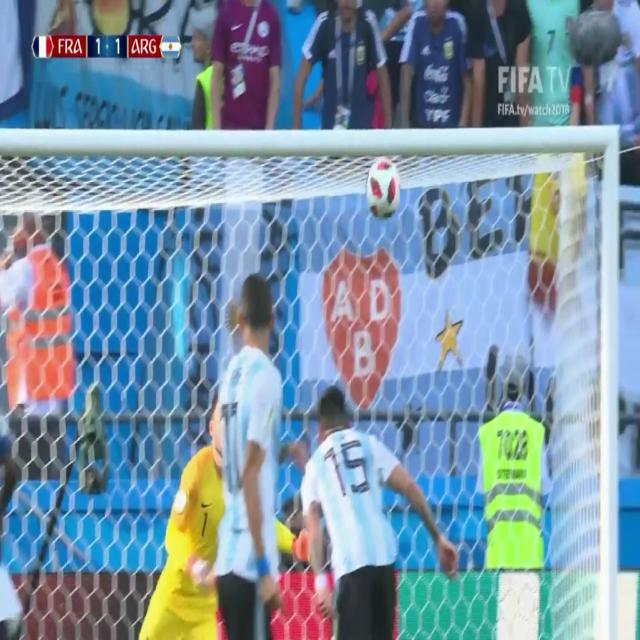ball: (363, 152, 403, 220)
player: (129, 387, 316, 640), (273, 392, 451, 632), (207, 267, 312, 640)
